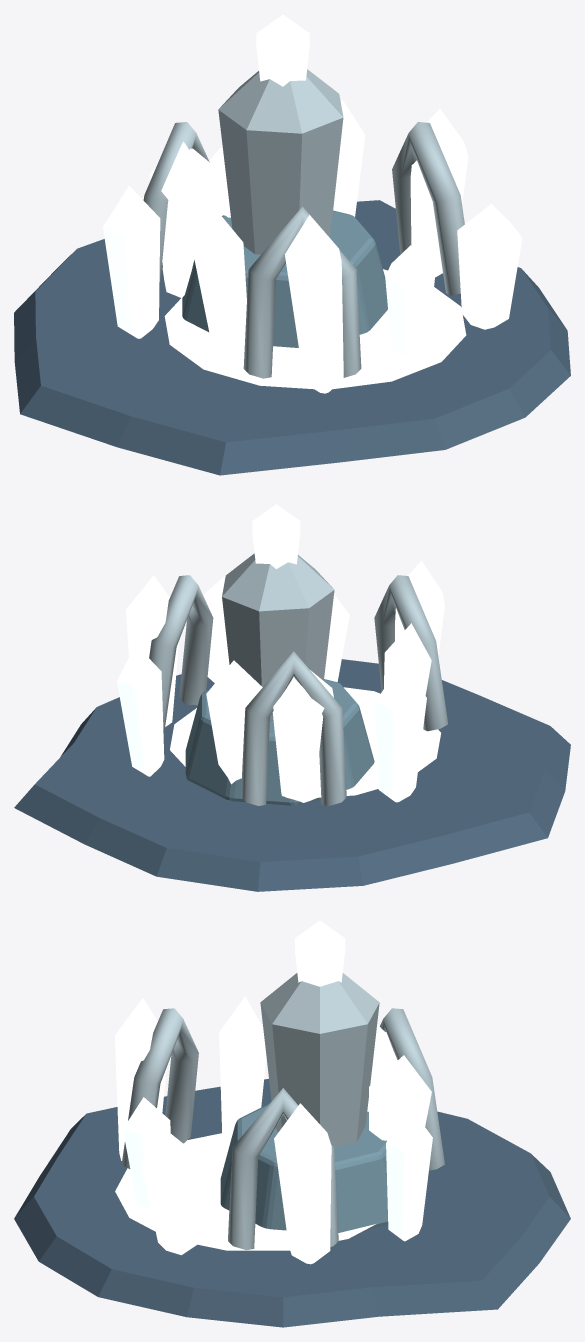
File: crystal-basin-lod0.glb
3 views of the same model, one above another, from view 1: azimuth 30°, elevation 25°; view 2: azimuth 150°, elevation 25°; view 3: azimuth 270°, elevation 25° (orthographic). The views are drawn at different scales.
Parts seen in each view (by area): view 1: STONE_TERRAIN_SOCKET, CRYSTAL_PALACE_KEEP, CRYSTAL_REFLECTIVE_BASIN, FX_FLOAT_CRYSTAL_6, CRYSTAL_SPIRE_4, STONE_PALACE_TERRACE, CRYSTAL_PRISM_ARCH_2, CRYSTAL_SPIRE_8, CRYSTAL_PRISM_ARCH_0, CRYSTAL_SPIRE_5, FX_FLOAT_CRYSTAL_3, CRYSTAL_SPIRE_7 (+5 smaller); view 2: STONE_TERRAIN_SOCKET, CRYSTAL_PALACE_KEEP, CRYSTAL_PRISM_ARCH_1, STONE_PALACE_TERRACE, CRYSTAL_PRISM_ARCH_0, CRYSTAL_SPIRE_4, FX_FLOAT_CRYSTAL_3, CRYSTAL_SPIRE_1, CRYSTAL_PRISM_ARCH_2, CRYSTAL_SPIRE_2, CRYSTAL_REFLECTIVE_BASIN, FX_FLOAT_CRYSTAL_0 (+5 smaller); view 3: STONE_TERRAIN_SOCKET, CRYSTAL_PALACE_KEEP, STONE_PALACE_TERRACE, FX_FLOAT_CRYSTAL_0, CRYSTAL_SPIRE_8, CRYSTAL_PRISM_ARCH_2, CRYSTAL_REFLECTIVE_BASIN, CRYSTAL_PRISM_ARCH_0, CRYSTAL_SPIRE_5, CRYSTAL_SPIRE_1, CRYSTAL_SPIRE_2, FX_FLOAT_CRYSTAL_6 (+4 smaller).
Part boxes in pixels (x1,y1,x2,y2): STONE_TERRAIN_SOCKET: (14, 200, 570, 475); CRYSTAL_PALACE_KEEP: (218, 69, 343, 254); CRYSTAL_REFLECTIVE_BASIN: (164, 269, 466, 389); FX_FLOAT_CRYSTAL_6: (285, 215, 343, 393); CRYSTAL_SPIRE_4: (103, 185, 160, 338); STONE_PALACE_TERRACE: (182, 210, 387, 347); CRYSTAL_PRISM_ARCH_2: (243, 206, 361, 378); CRYSTAL_SPIRE_8: (457, 204, 522, 329); CRYSTAL_PRISM_ARCH_0: (392, 122, 464, 295); CRYSTAL_SPIRE_5: (191, 205, 246, 359); FX_FLOAT_CRYSTAL_3: (149, 141, 220, 297); CRYSTAL_SPIRE_7: (385, 245, 435, 359); STONE_TERRAIN_SOCKET: (14, 659, 570, 891); CRYSTAL_PALACE_KEEP: (222, 553, 334, 721); CRYSTAL_PRISM_ARCH_1: (241, 651, 346, 805); STONE_PALACE_TERRACE: (185, 679, 374, 805); CRYSTAL_PRISM_ARCH_0: (149, 575, 213, 729); CRYSTAL_SPIRE_4: (375, 667, 426, 802); FX_FLOAT_CRYSTAL_3: (272, 670, 333, 802); CRYSTAL_SPIRE_1: (117, 645, 164, 776); CRYSTAL_PRISM_ARCH_2: (374, 575, 447, 731); CRYSTAL_SPIRE_2: (206, 660, 262, 784); CRYSTAL_REFLECTIVE_BASIN: (170, 687, 440, 797); FX_FLOAT_CRYSTAL_0: (126, 575, 178, 726); STONE_TERRAIN_SOCKET: (14, 1078, 570, 1327); CRYSTAL_PALACE_KEEP: (260, 973, 379, 1146); STONE_PALACE_TERRACE: (220, 1103, 388, 1232); FX_FLOAT_CRYSTAL_0: (274, 1103, 331, 1264); CRYSTAL_SPIRE_8: (141, 1132, 202, 1255); CRYSTAL_PRISM_ARCH_2: (121, 1008, 198, 1168); CRYSTAL_REFLECTIVE_BASIN: (115, 1133, 375, 1250); CRYSTAL_PRISM_ARCH_0: (228, 1088, 338, 1250); CRYSTAL_SPIRE_5: (219, 996, 266, 1144); CRYSTAL_SPIRE_1: (386, 1109, 432, 1241); CRYSTAL_SPIRE_2: (369, 1055, 431, 1140); FX_FLOAT_CRYSTAL_6: (115, 998, 166, 1160).
Size of the model in its own units: 1.85 by 1.08 by 1.82.
